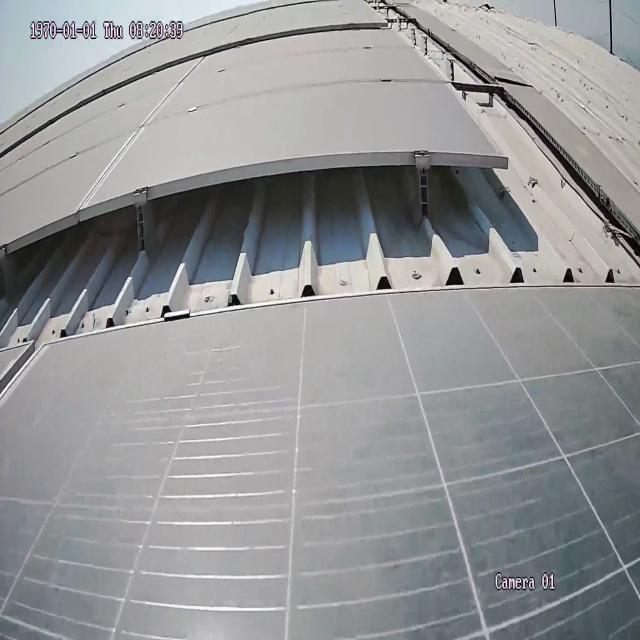interior panel: (61, 52, 215, 220), (0, 339, 66, 427)
outher panel: (0, 0, 640, 336)
